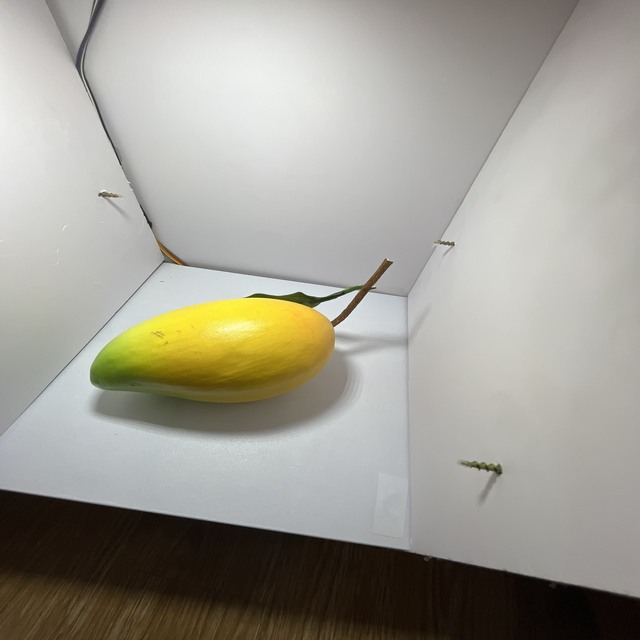Xoai: (67, 259, 356, 447)
